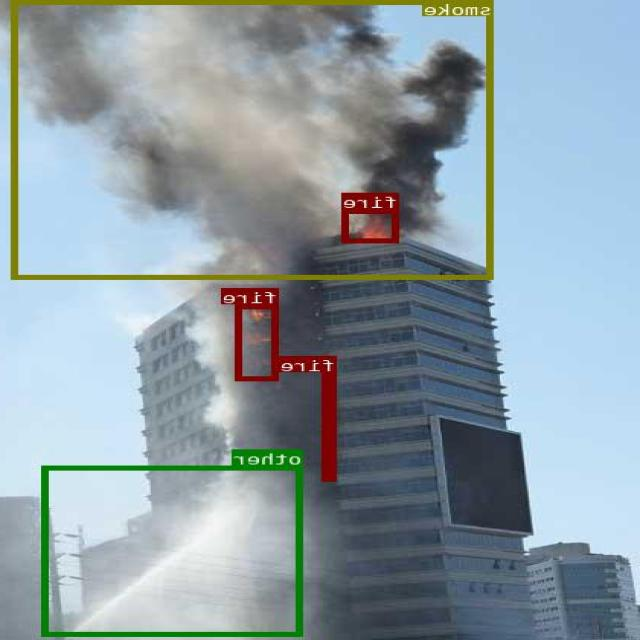fire: (238, 304, 280, 380), (343, 208, 400, 242), (324, 371, 337, 480)
other: (44, 465, 304, 636)
smoke: (14, 0, 494, 279)
